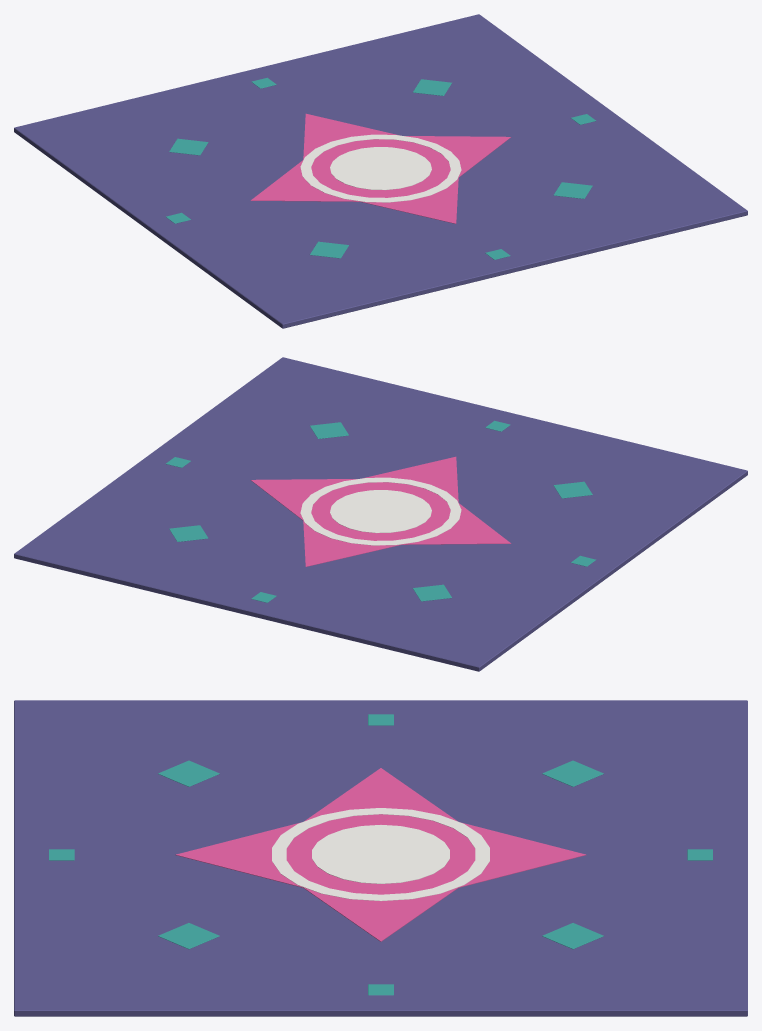
Rendered from bowling-alley-and-pool-hall-carpet-floor-module-6fd93cda__33875.glb.
The picture shows the model from 3 angles, top to bottom: view 1: azimuth 30°, elevation 25°; view 2: azimuth 150°, elevation 25°; view 3: azimuth 270°, elevation 25°; orthographic projection. The views are drawn at different scales.
Visible parts, largest first — view 1: carpet-floor-module; view 2: carpet-floor-module; view 3: carpet-floor-module.
Boxes of the visible parts, x1,y1,x2,y2 form: carpet-floor-module: (14, 14, 747, 328); carpet-floor-module: (14, 357, 747, 671); carpet-floor-module: (14, 700, 747, 1016).
Bounding box in the file's own units: 2 × 0.0227 × 2.
